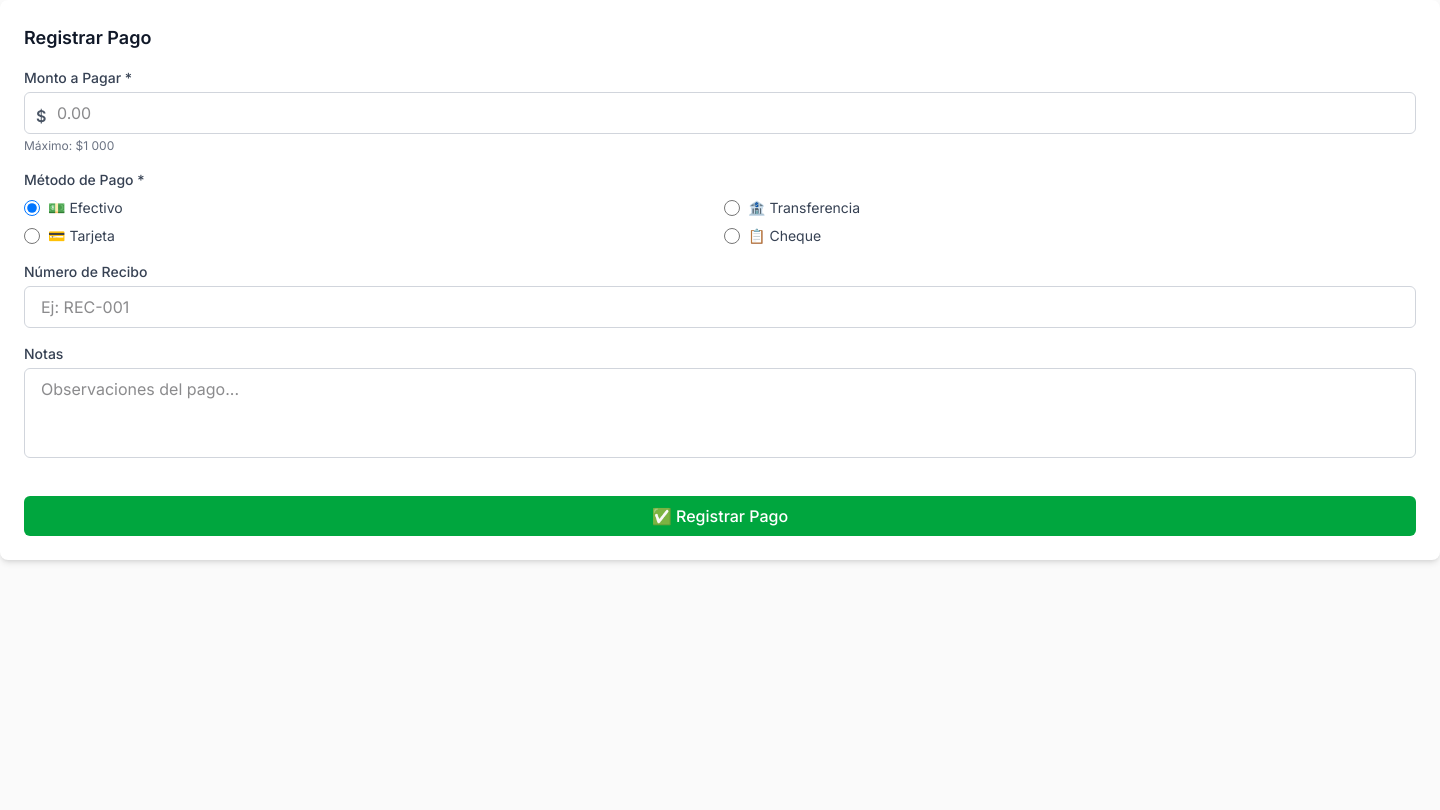
Test: PaymentForm Component › should reject zero amount
In the number field with placeholder "0.00": [720, 113] box [24,92,1416,134], type "0"
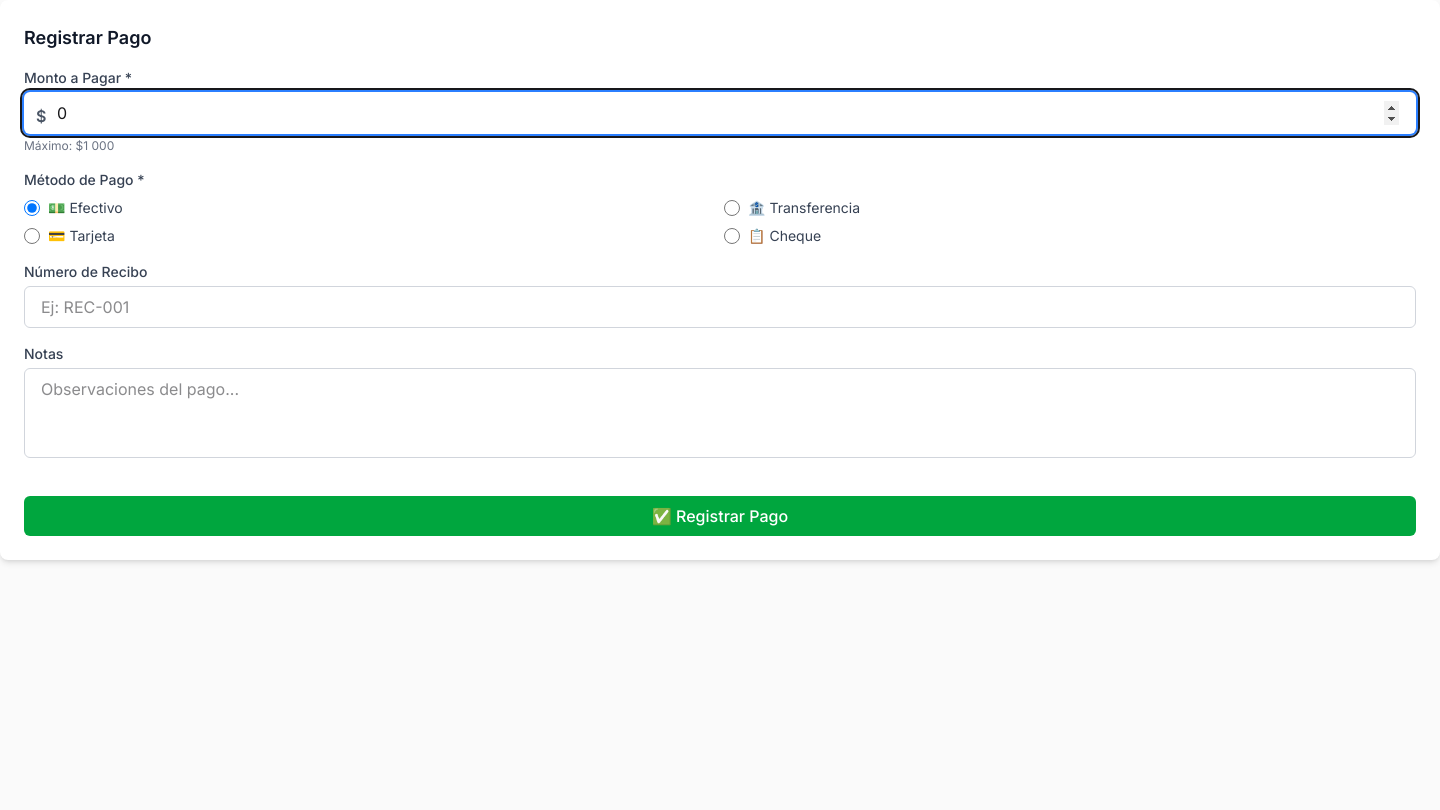
Click the button "✅ Registrar Pago": [720, 516] box [24,496,1416,536]
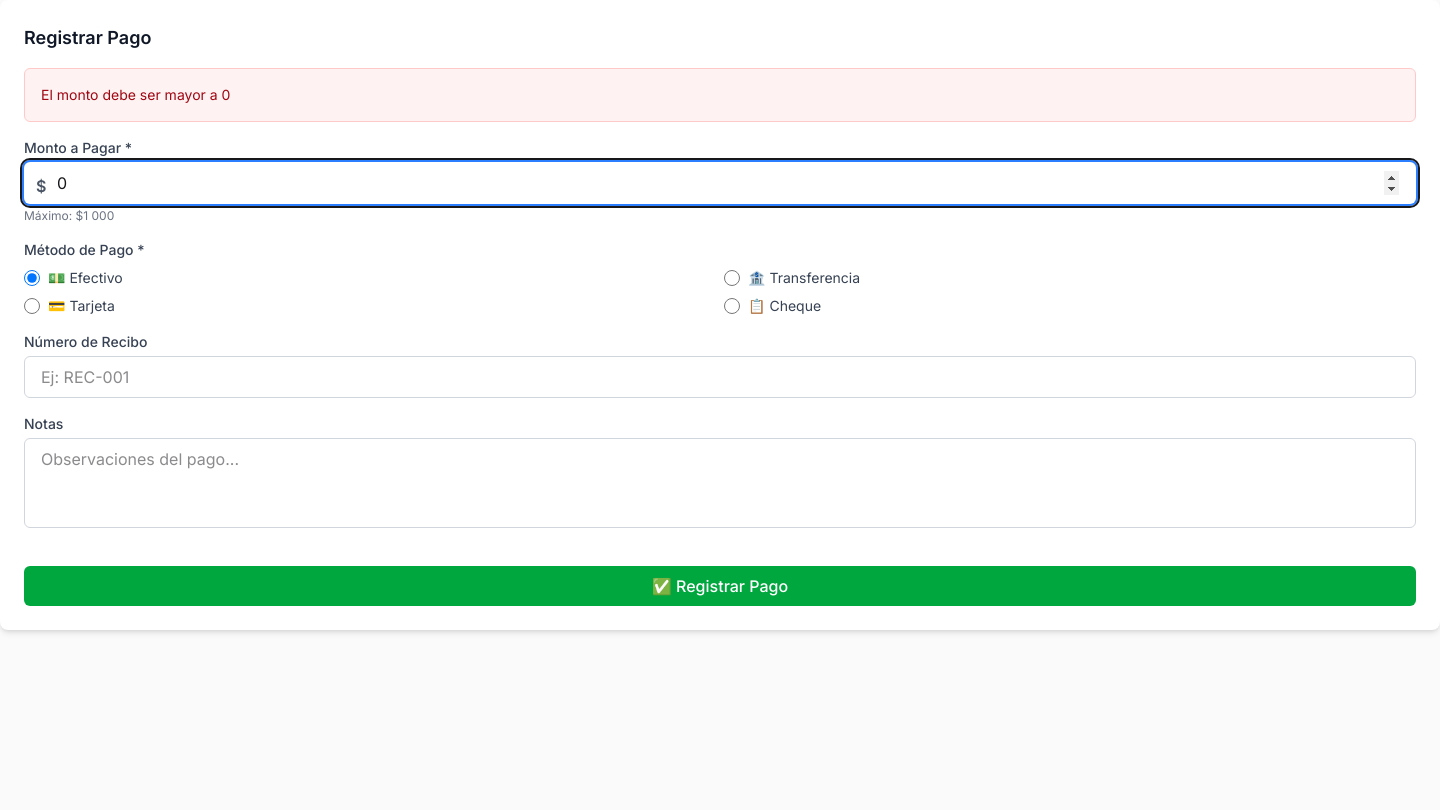
Now the text "El monto debe ser mayor a 0" is shown, box [41,86,230,103]
